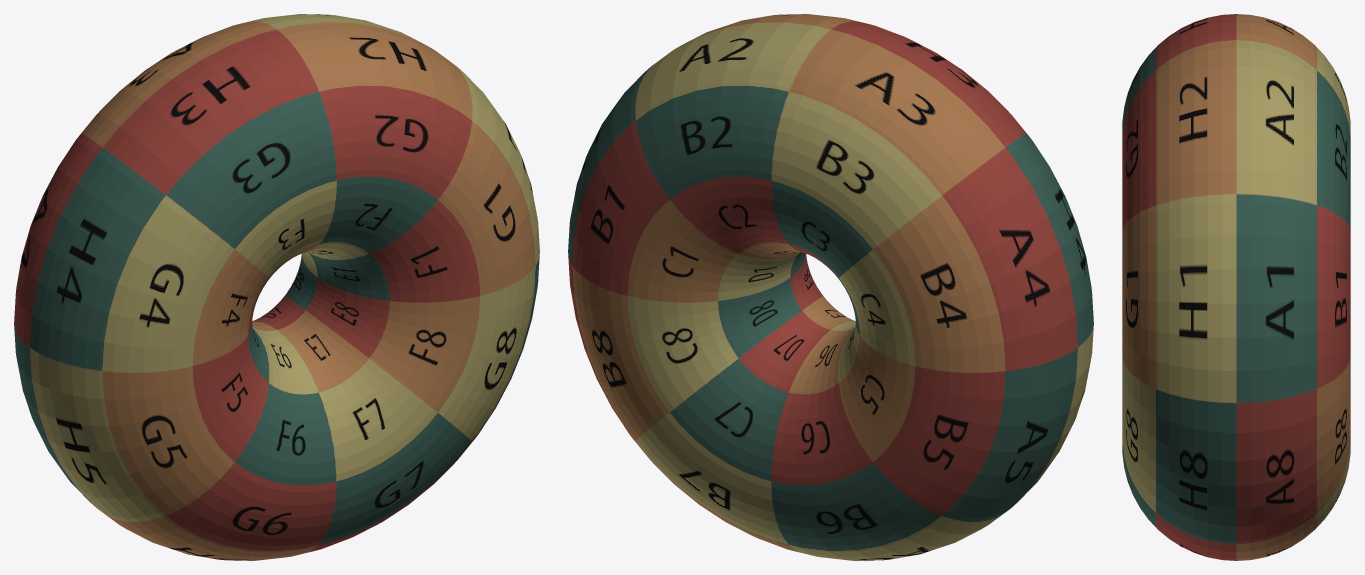
File: texture_torus_R2_r23.glb
3 renders of one model, left to right at view 1: azimuth 30°, elevation 25°; view 2: azimuth 150°, elevation 25°; view 3: azimuth 270°, elevation 25°, orthographic. The views are drawn at different scales.
Parts seen in each view (by area): view 1: world; view 2: world; view 3: world.
Part boxes in pixels (<box>): world: <box>14,14,539,560</box>; world: <box>568,14,1093,560</box>; world: <box>1122,14,1350,560</box>.
Size of the model in its own units: 19.47 by 19.43 by 8.12.
1 material, 1 textured.
